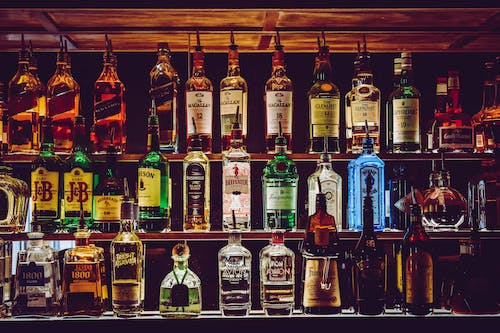alcohol: (350, 196, 388, 315), (448, 230, 500, 316), (59, 225, 106, 318), (11, 232, 59, 320), (30, 118, 65, 234), (304, 45, 341, 154), (145, 42, 181, 154), (109, 197, 142, 319), (137, 114, 170, 232), (400, 203, 434, 317), (89, 50, 126, 154), (431, 69, 476, 154), (64, 116, 96, 234), (261, 45, 295, 154), (46, 51, 81, 155), (388, 51, 423, 154), (262, 136, 299, 232), (7, 49, 40, 155), (217, 223, 253, 317), (258, 228, 296, 317), (159, 243, 203, 318), (184, 45, 214, 154), (350, 51, 381, 154), (219, 44, 248, 154), (353, 137, 385, 233), (222, 128, 251, 233), (422, 168, 469, 232), (93, 143, 125, 234), (182, 134, 211, 233), (307, 153, 343, 232), (300, 194, 342, 256), (301, 256, 343, 316), (0, 162, 30, 235), (481, 56, 500, 153), (389, 162, 414, 232), (477, 159, 500, 232)
